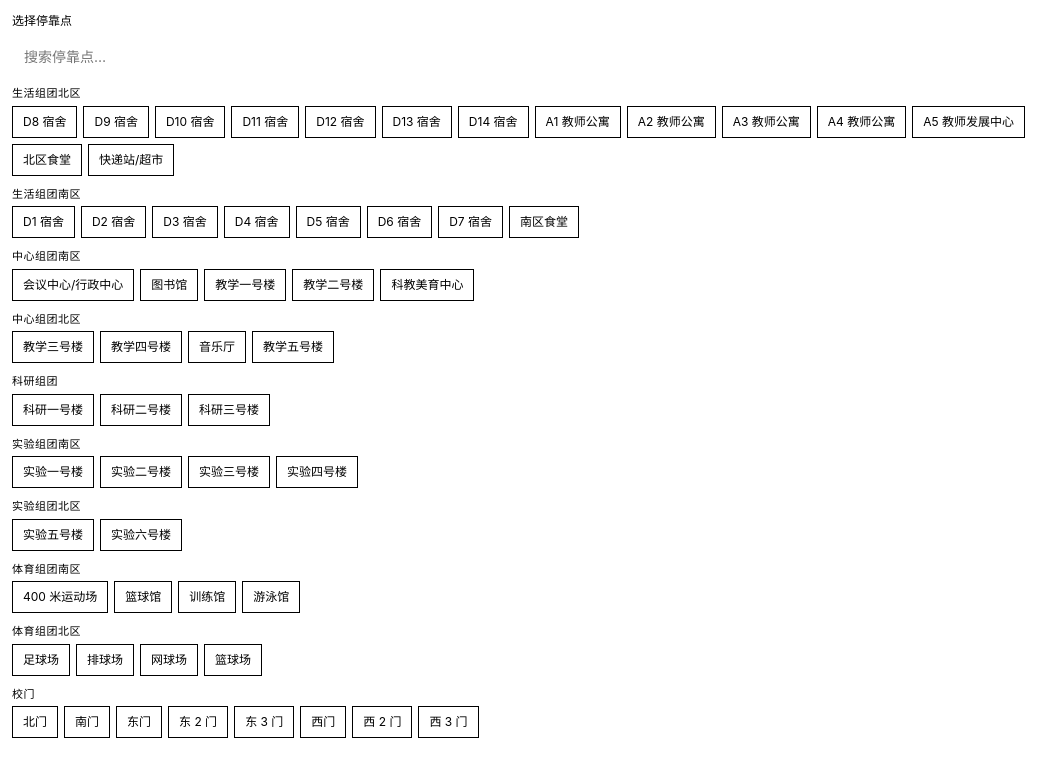
Scenario: StopPicker › filters stops when searching
Type "图书馆" into the field with test id "stop-picker-input".
click(524, 56); type("图书馆")  # box [12, 36, 1036, 77]
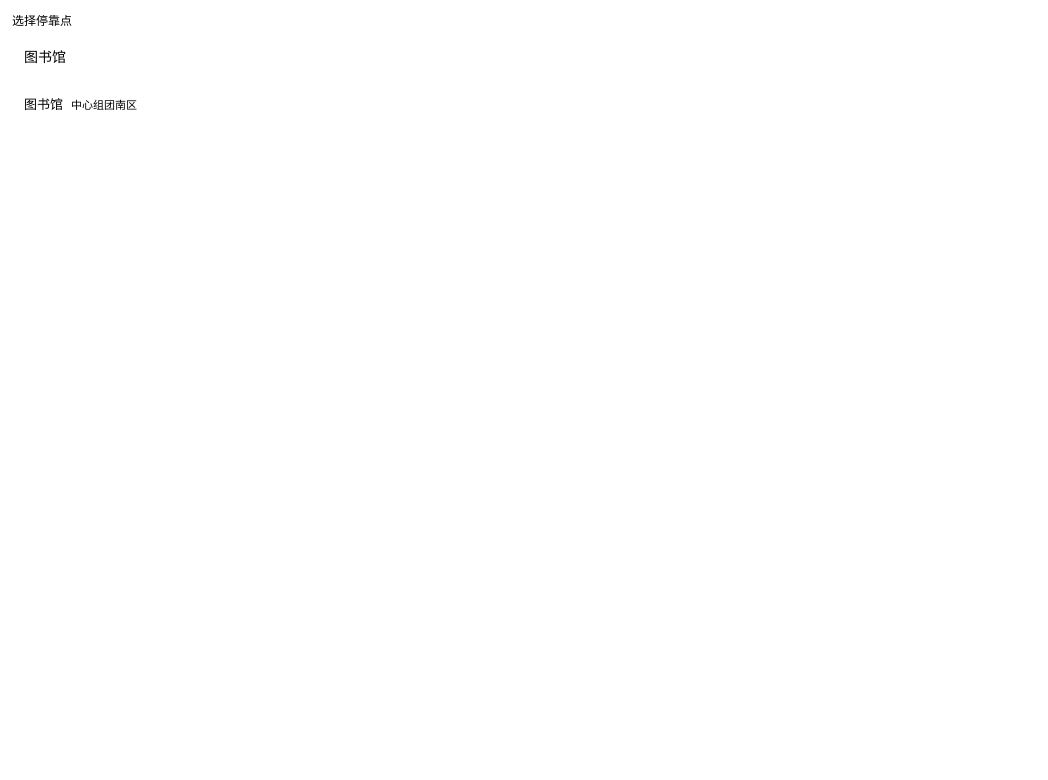
Result: the button with test id "stop-option-C2" is shown at [12, 85, 1036, 124]
